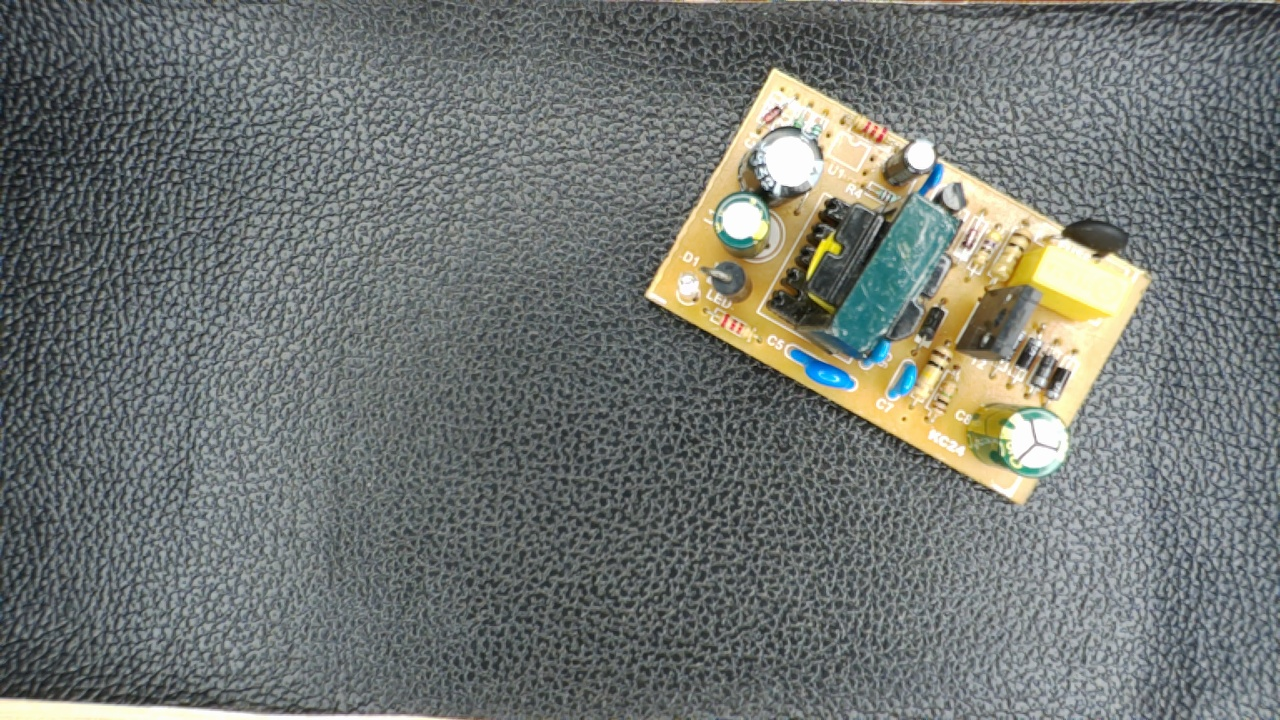fuse: (1047, 212, 1134, 264)
hv_capacitor: (969, 401, 1070, 479)
mov: (782, 344, 861, 399)
